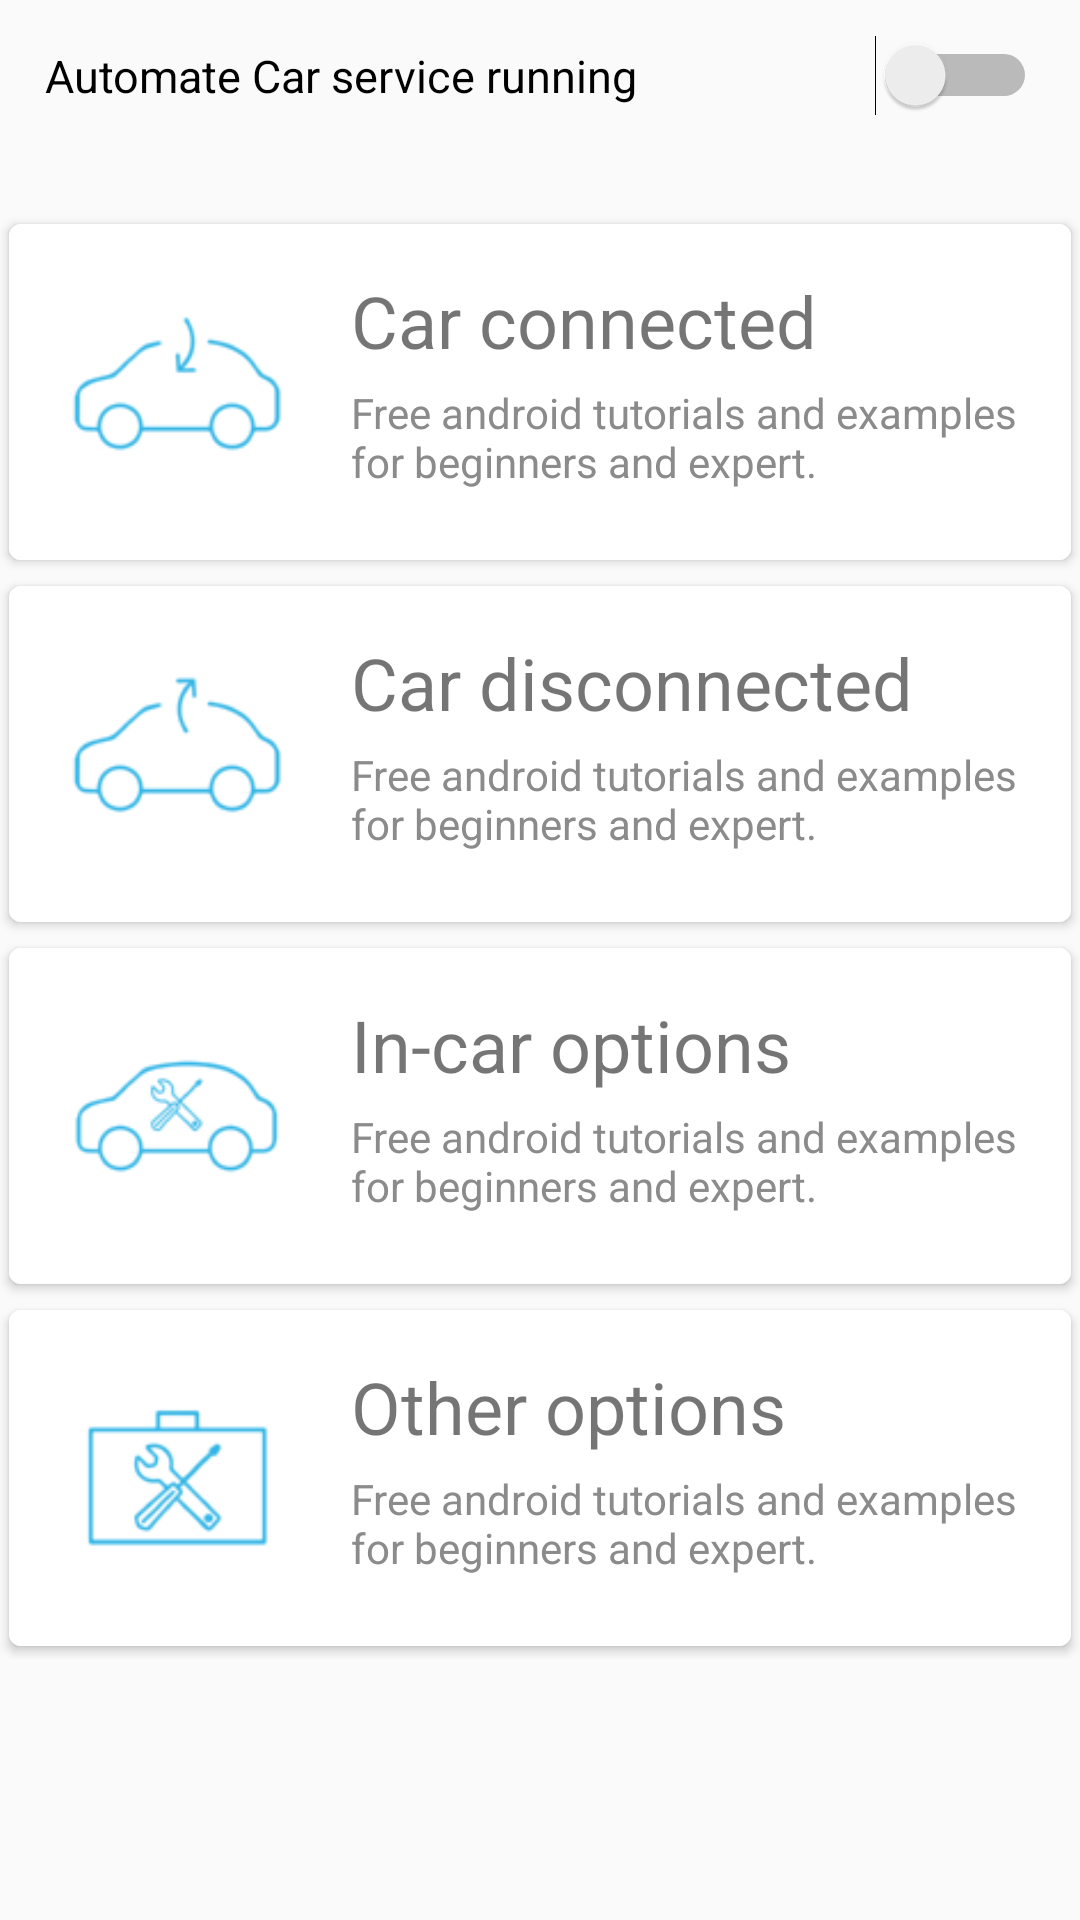

Locate icon controls on the screen. Image size 1080w x 1920h, boxes as [x1,y1,x2,y2].
in car: [73,317,282,451]
out car: [73,677,282,813]
